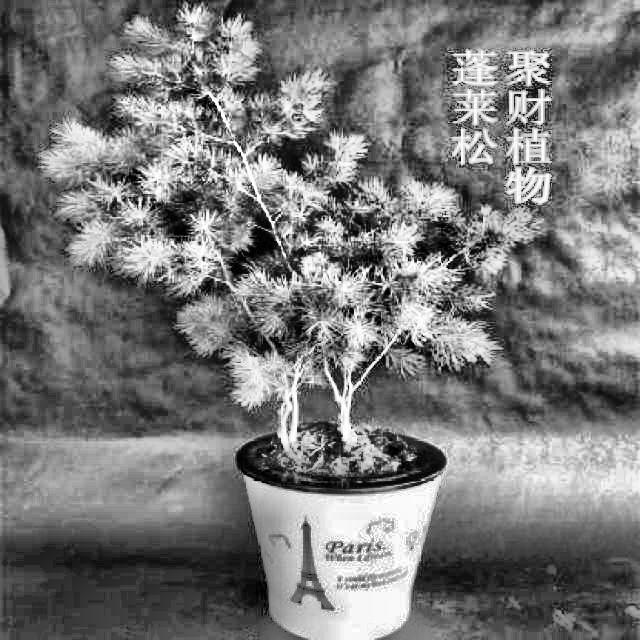plants: (118, 23, 486, 640)
